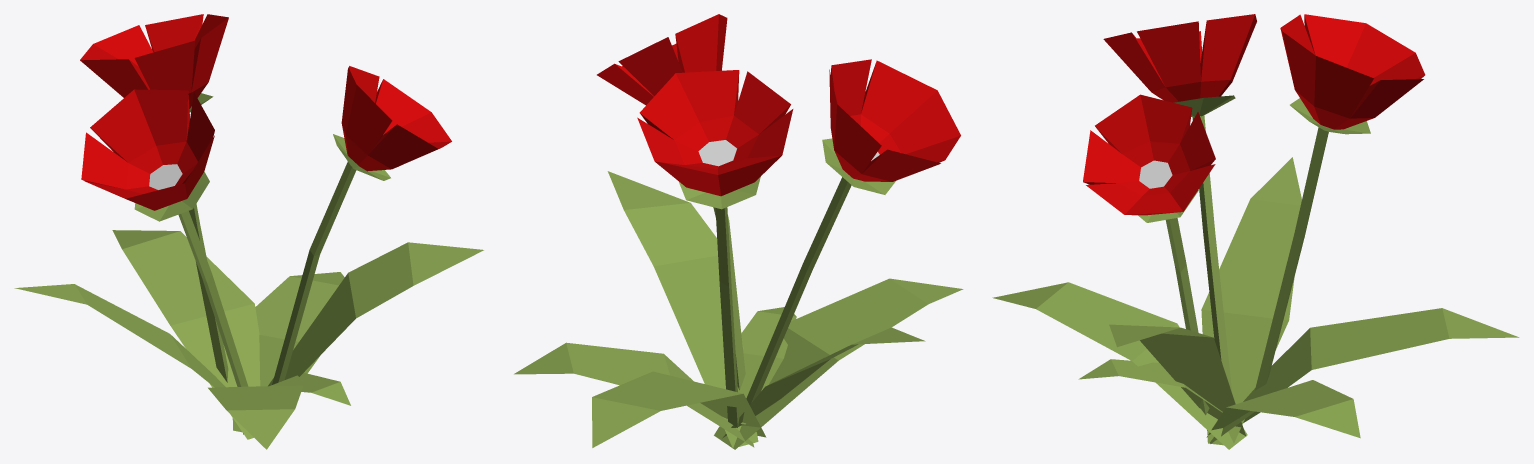
The model's file is flower_03.fbx.
3 views of the same model, side by side, from view 1: azimuth 30°, elevation 25°; view 2: azimuth 150°, elevation 25°; view 3: azimuth 270°, elevation 25° (orthographic). The views are drawn at different scales.
Visible parts, largest first — view 1: flower_03; view 2: flower_03; view 3: flower_03.
Boxes of the visible parts, left/top/right/bottom form: flower_03: left=14, top=14, right=483, bottom=449; flower_03: left=514, top=14, right=963, bottom=449; flower_03: left=992, top=14, right=1519, bottom=449.
Size of the model in its own units: 79.97 by 74.9 by 90.86.
